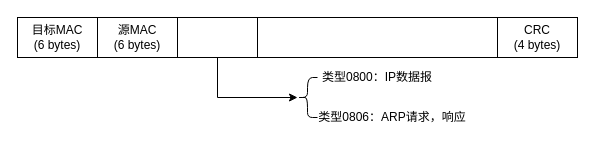
Some shapes in this 595 by 145 pixel diagram are drawn without their labels. The shapes that lost their labels are listed below. From the top down, each one's centre as x and y in pixels, then its label:
At (x=217, y=37): "协议类型 (2 bytes)".
At (x=377, y=37): "数据 (46-1500 bytes)".
